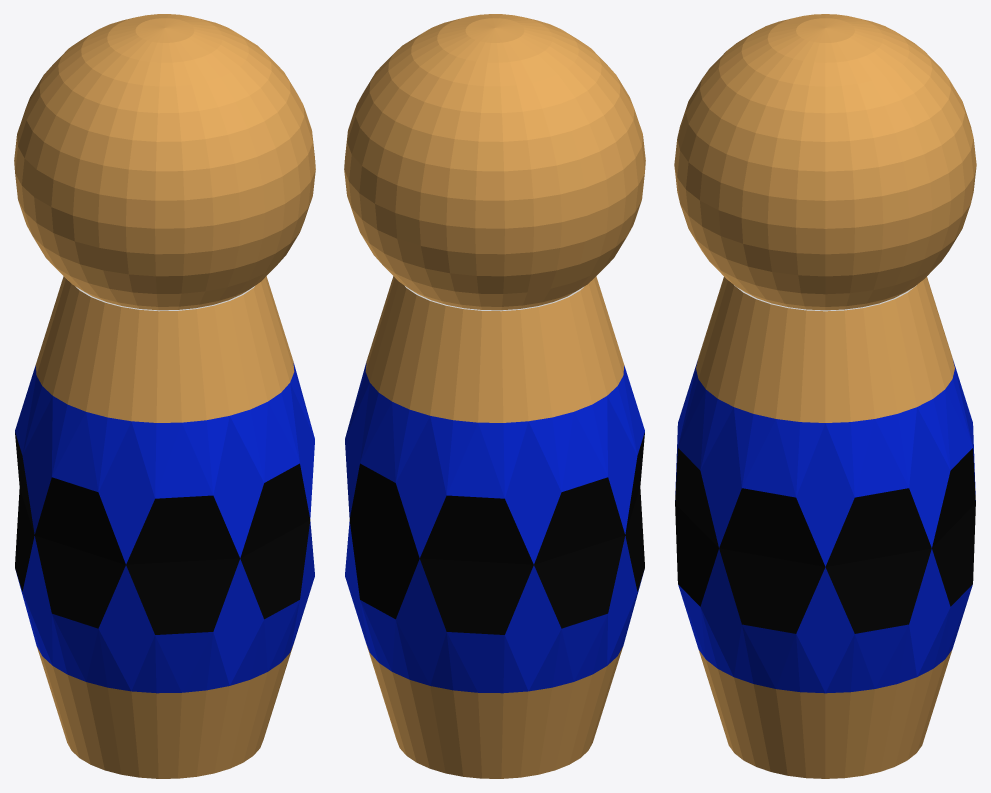
Rendered from PERSONA.fbx.
The picture shows the model from 3 angles, left to right: view 1: azimuth 30°, elevation 25°; view 2: azimuth 150°, elevation 25°; view 3: azimuth 270°, elevation 25°; orthographic projection.
Visible parts, largest first — view 1: Cylinder, Sphere; view 2: Cylinder, Sphere; view 3: Cylinder, Sphere.
Part boxes in pixels (x1=…): Cylinder: x1=15, y1=276, x2=314, y2=778; Sphere: x1=14, y1=14, x2=315, y2=310; Cylinder: x1=345, y1=276, x2=644, y2=778; Sphere: x1=344, y1=14, x2=645, y2=310; Cylinder: x1=675, y1=277, x2=975, y2=778; Sphere: x1=674, y1=14, x2=976, y2=310.
Size of the model in its own units: 240 by 620 by 240.
